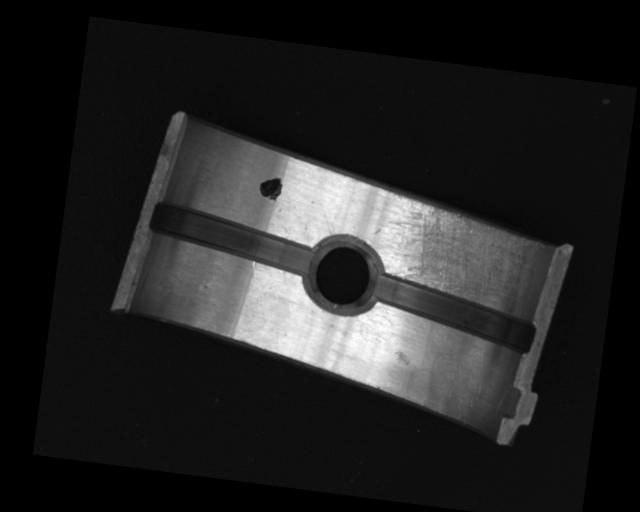blot: (258, 174, 283, 202)
bruise: (393, 349, 412, 367)
gap: (360, 271, 541, 356), (143, 200, 317, 277)
hole: (304, 235, 381, 316)
nick: (244, 260, 273, 323), (316, 202, 336, 237)
scratch: (376, 186, 552, 317)
